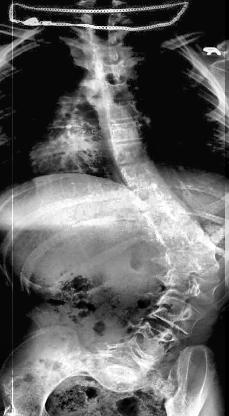Vertebrae: (99, 334, 170, 376), (148, 294, 214, 332), (122, 319, 188, 357), (160, 269, 221, 305), (139, 201, 203, 235), (158, 244, 222, 278), (152, 222, 214, 252), (124, 180, 182, 210), (86, 97, 144, 125), (114, 161, 170, 189), (86, 74, 138, 104), (100, 138, 154, 166), (97, 119, 152, 146), (84, 42, 132, 64), (82, 23, 128, 45), (88, 60, 138, 80)
